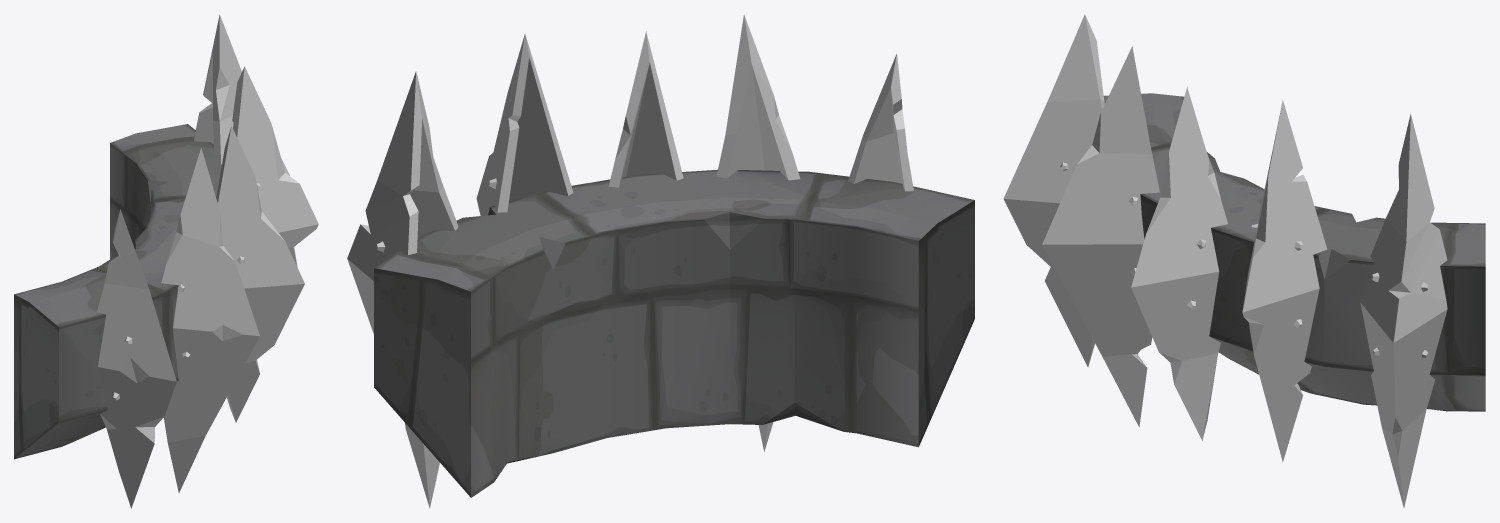
Rendered from SM_Bld_Battlements_Curve_03.fbx.
3 views of the same model, side by side, from view 1: azimuth 30°, elevation 25°; view 2: azimuth 150°, elevation 25°; view 3: azimuth 270°, elevation 25° (orthographic). The views are drawn at different scales.
Parts seen in each view (by area): view 1: SM_Bld_Battlements_Curve_03; view 2: SM_Bld_Battlements_Curve_03; view 3: SM_Bld_Battlements_Curve_03.
Boxes of the visible parts, left/top/right/bottom form: SM_Bld_Battlements_Curve_03: left=14, top=14, right=318, bottom=508; SM_Bld_Battlements_Curve_03: left=347, top=14, right=974, bottom=508; SM_Bld_Battlements_Curve_03: left=1003, top=14, right=1485, bottom=507.
Size of the model in its own units: 415 by 382 by 414.
